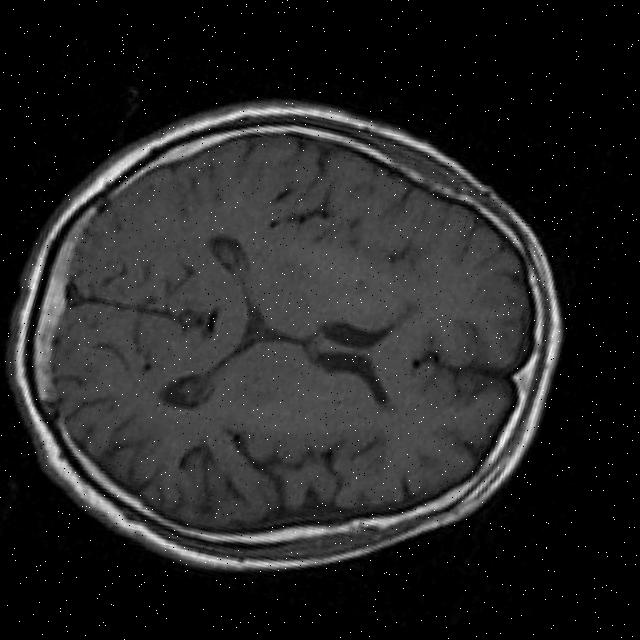NoTumor: (0, 36, 627, 640)
